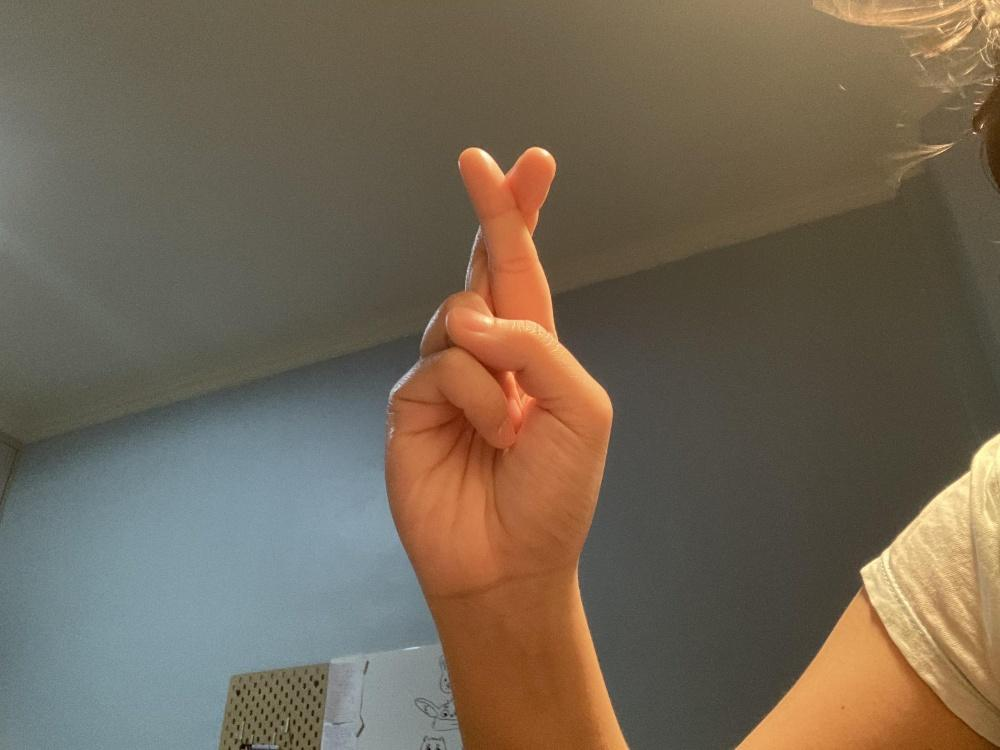r: (381, 145, 613, 600)
